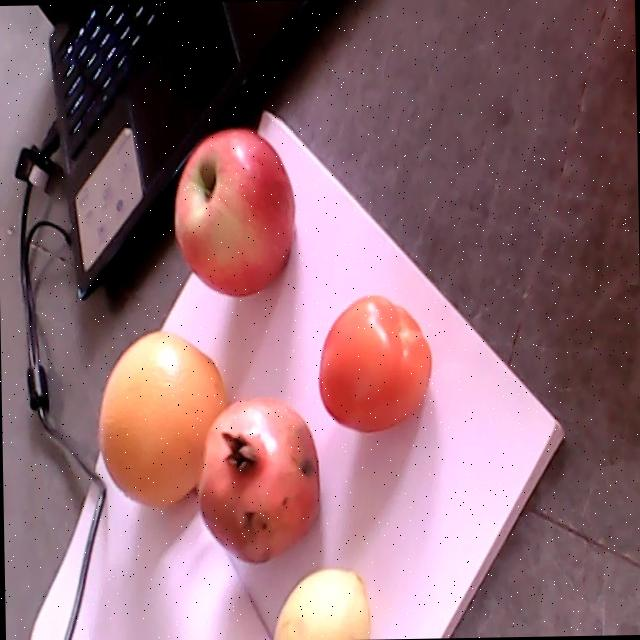apple: (173, 129, 294, 295)
lemon: (274, 569, 371, 639)
orange: (100, 328, 233, 507)
pomegranate: (196, 395, 318, 562)
tomato: (319, 296, 432, 431)
